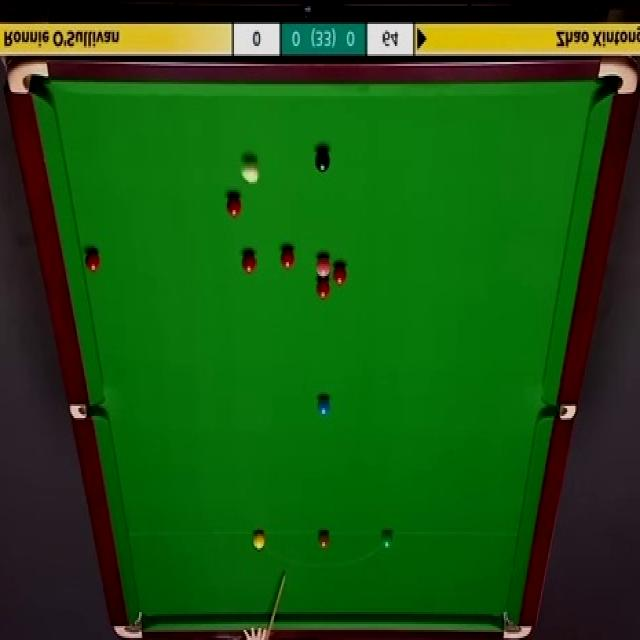black-ball: (315, 149, 331, 172)
blue-ball: (318, 396, 330, 415)
brown-ball: (318, 531, 330, 551)
green-ball: (380, 530, 395, 550)
pink-ball: (316, 253, 332, 276)
red-ball: (332, 262, 348, 286), (242, 250, 257, 275), (226, 195, 242, 218), (280, 247, 296, 270), (86, 250, 101, 271), (316, 278, 329, 299)
white-ball: (240, 158, 260, 186)
yellow-ball: (252, 530, 265, 552)
